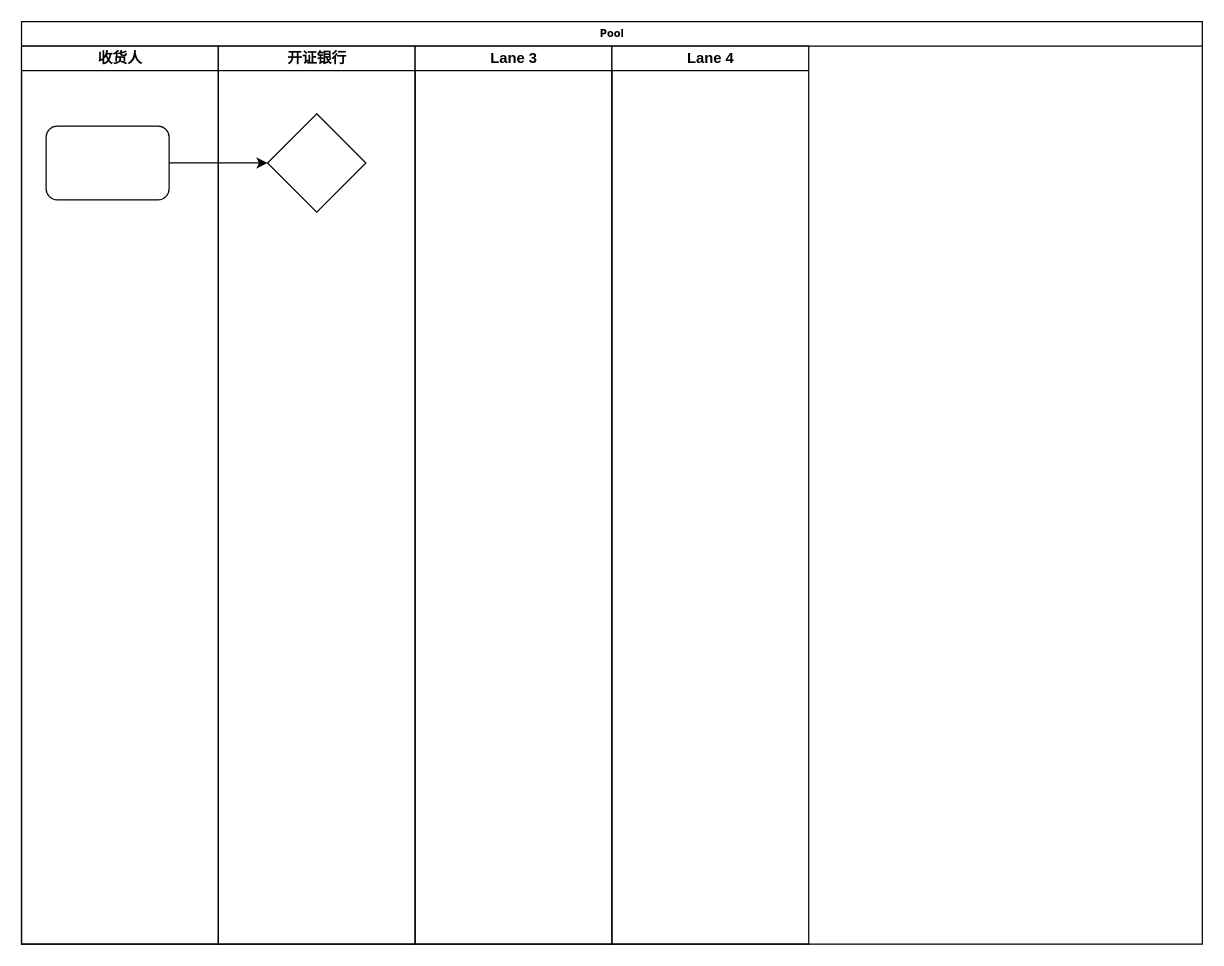
Some shapes in this 1224 by 966 pixel diagram are drawn without their labels. Each missing label, with the centre of its shape:
"判定" goes at (x=316, y=162).
"向开证银行递交开证申请" goes at (x=107, y=162).
